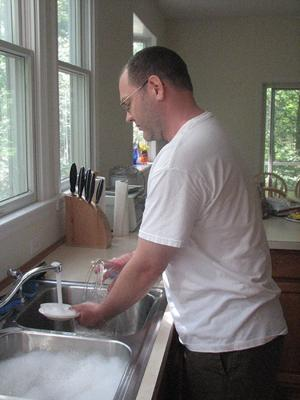person: (69, 46, 287, 398)
